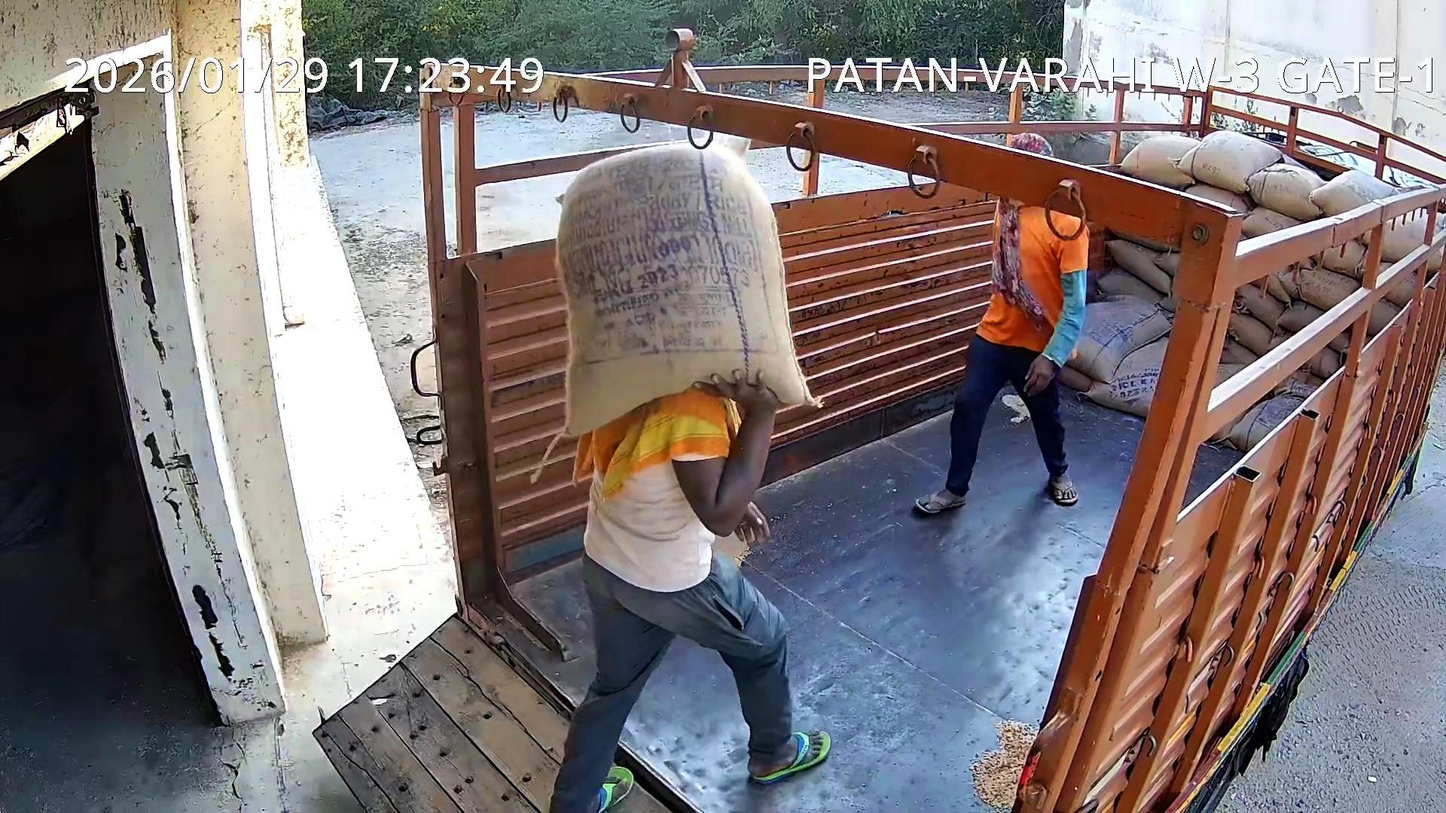Sack: (556, 144, 820, 436)
